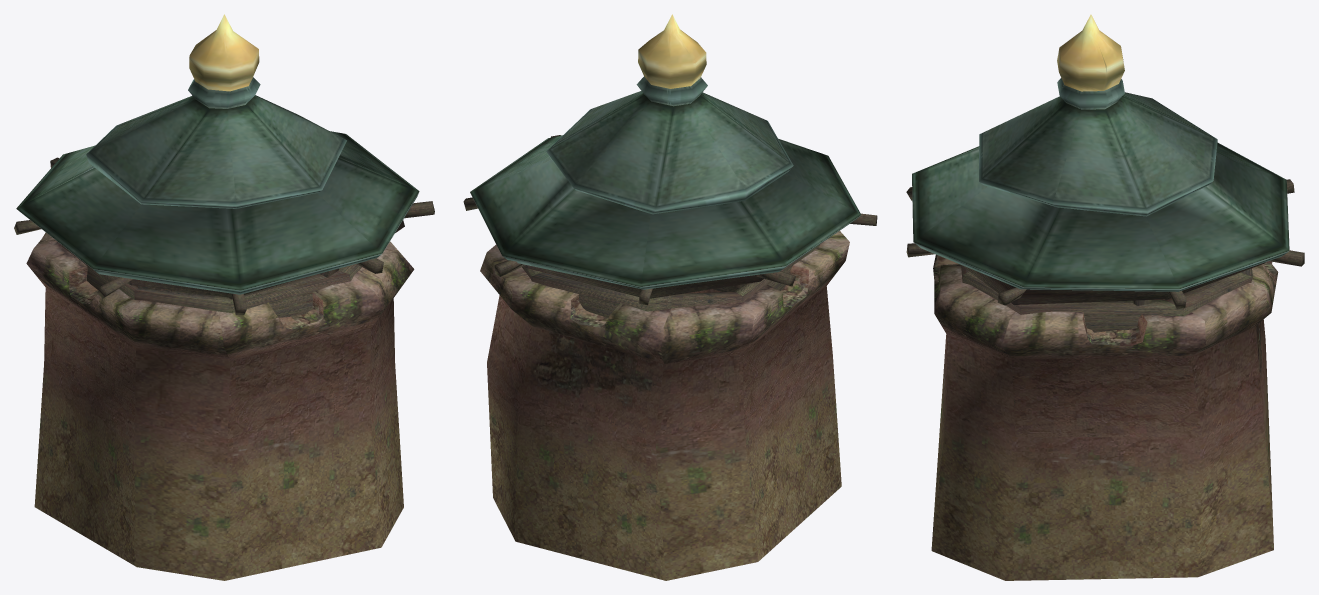
Rendered from smallwall_tower.FBX.
The picture shows the model from 3 angles, left to right: view 1: azimuth 30°, elevation 25°; view 2: azimuth 150°, elevation 25°; view 3: azimuth 270°, elevation 25°; orthographic projection. The views are drawn at different scales.
Visible parts, largest first — view 1: C1SMTLH; view 2: C1SMTLH; view 3: C1SMTLH.
Boxes of the visible parts, x1=… form: C1SMTLH: x1=14, y1=14, x2=434, y2=580; C1SMTLH: x1=463, y1=14, x2=877, y2=580; C1SMTLH: x1=906, y1=14, x2=1304, y2=580.
Size of the model in its own units: 14.65 by 20.6 by 14.72.
4 materials, 4 textured.
